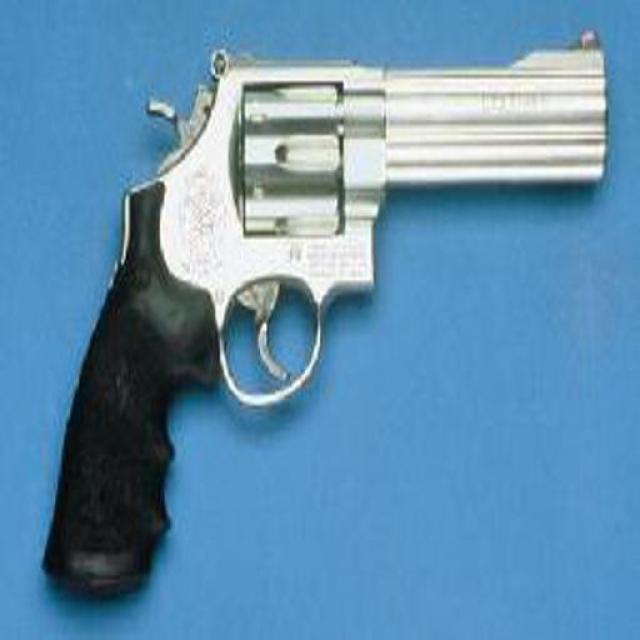pistol: (33, 24, 601, 596)
